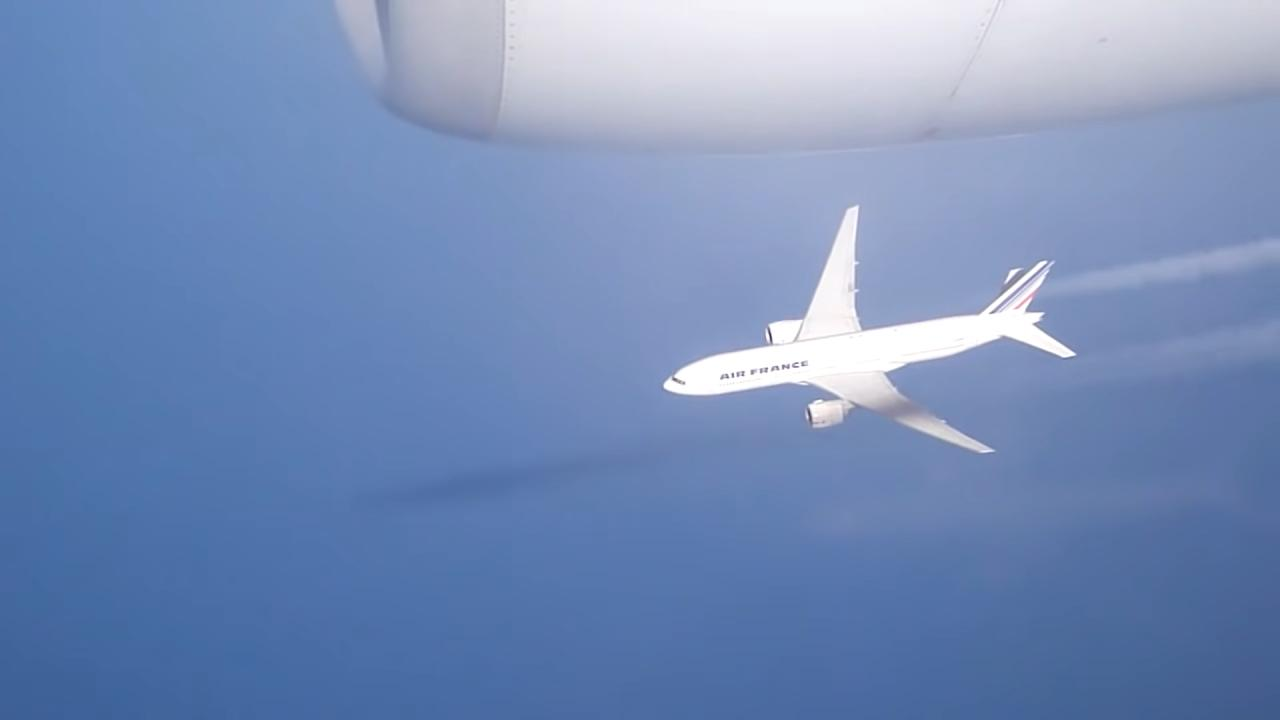Airplane: (652, 194, 1088, 467)
